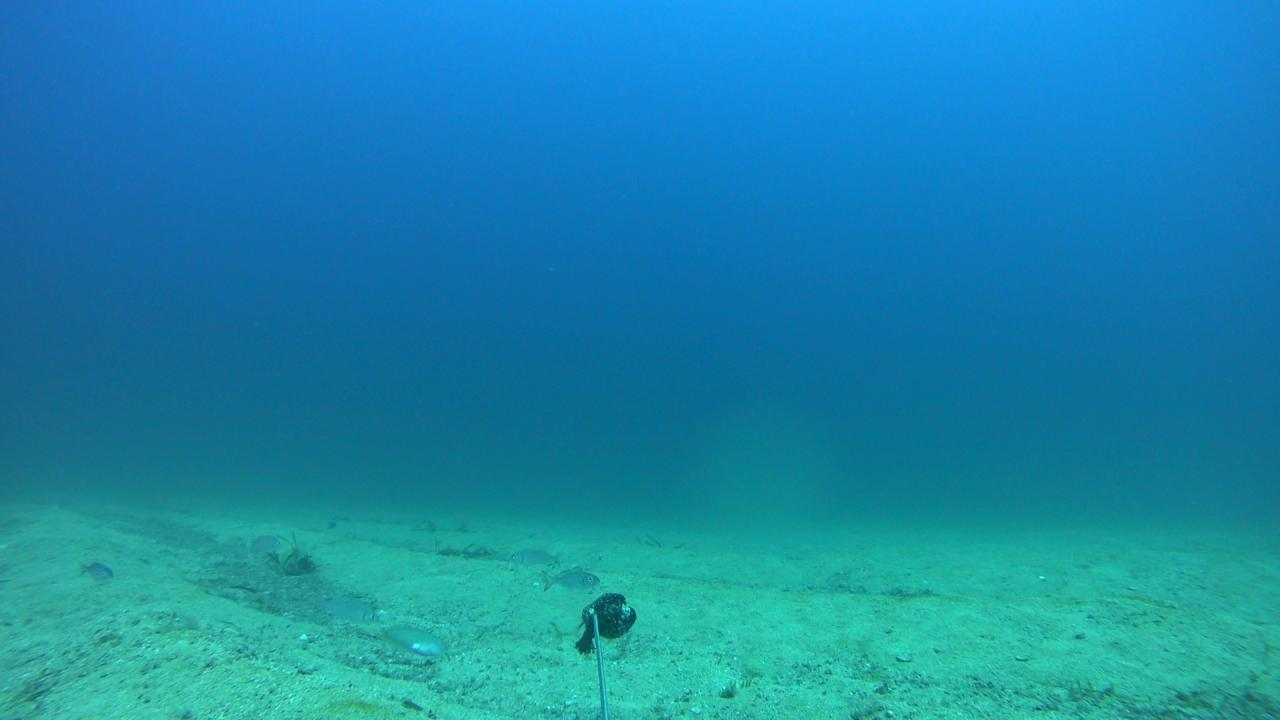pagellus: (307, 590, 380, 621), (540, 567, 606, 587), (506, 546, 564, 566), (77, 557, 113, 584)
